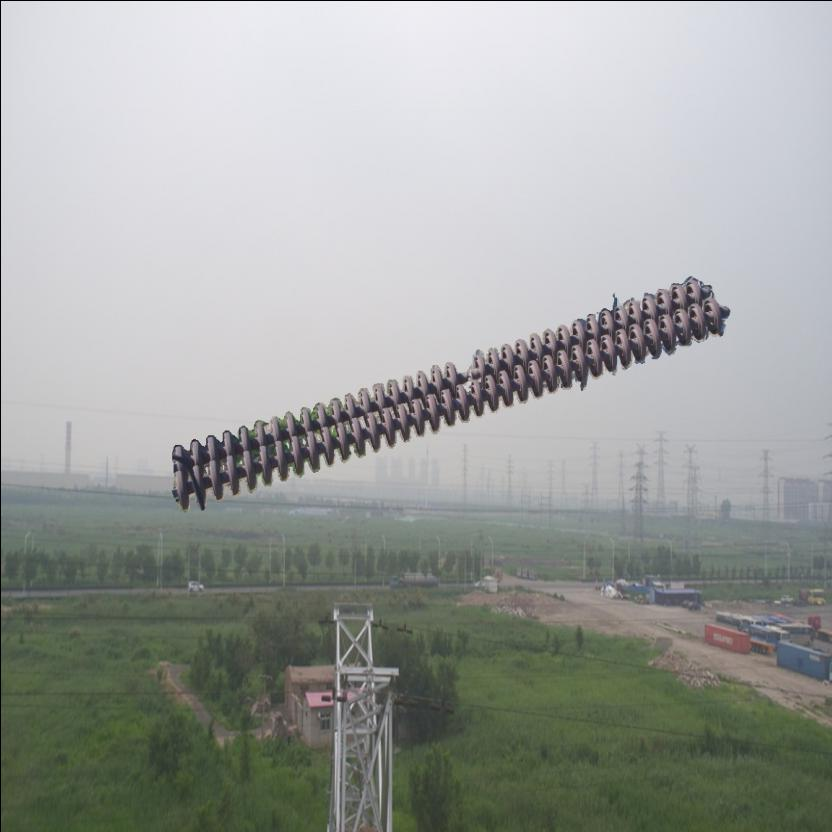defect: (444, 346, 489, 394)
